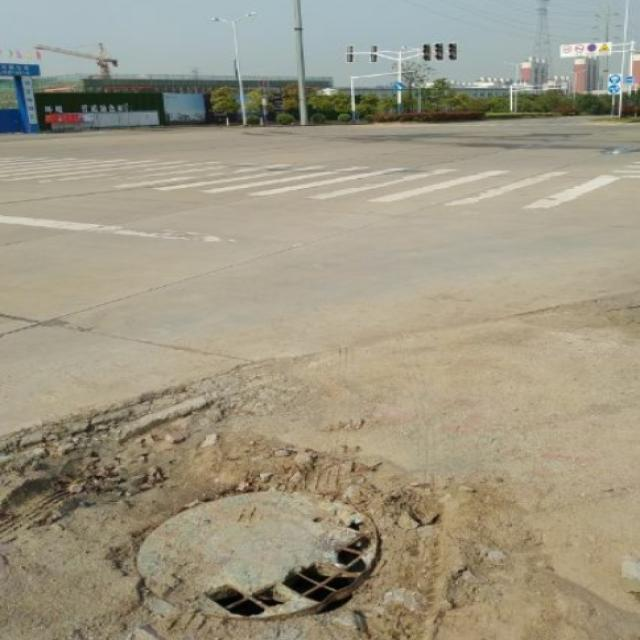Faulty: (118, 484, 406, 620)
